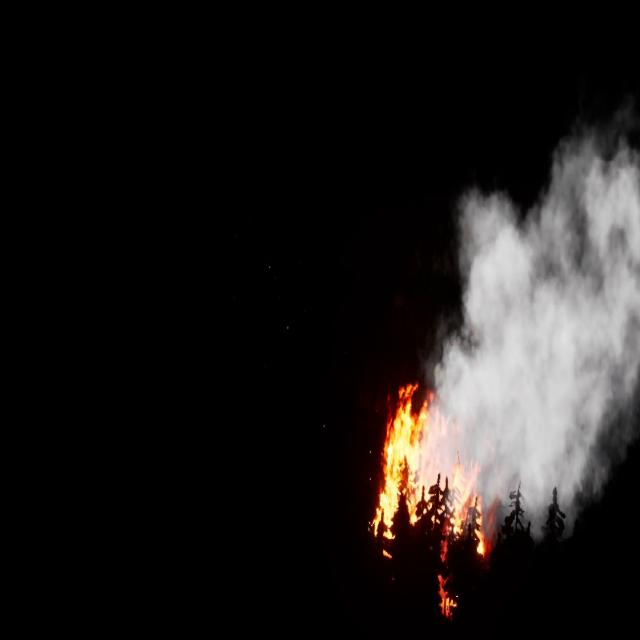fire: (366, 370, 492, 606)
smoke: (424, 138, 640, 538)
